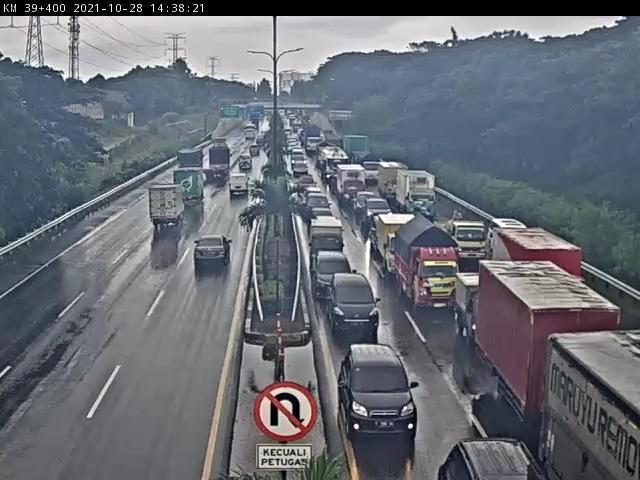bus: (244, 125, 260, 141)
car: (337, 346, 430, 437), (427, 427, 560, 480), (330, 275, 390, 337), (316, 250, 359, 293), (190, 231, 238, 269), (360, 199, 394, 228), (488, 217, 526, 242), (308, 192, 339, 210), (226, 174, 250, 197), (310, 207, 337, 224), (238, 155, 260, 172), (260, 133, 271, 146), (249, 145, 262, 155)
truck: (475, 255, 620, 460), (545, 334, 640, 480), (397, 213, 462, 313), (501, 229, 587, 287), (456, 270, 515, 345), (378, 213, 426, 273), (436, 213, 492, 261), (401, 171, 442, 221), (347, 137, 385, 181), (312, 220, 351, 262), (149, 186, 186, 228), (174, 169, 209, 210), (375, 163, 407, 204), (319, 147, 353, 181), (336, 166, 367, 201), (178, 149, 209, 177), (210, 147, 233, 177)
